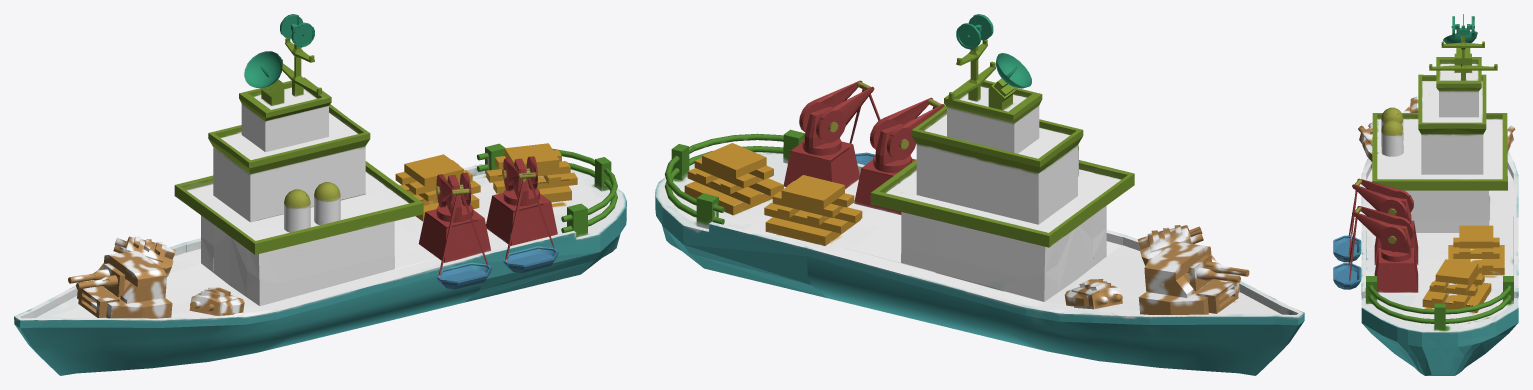
File: Cruiser.FBX
The picture shows the model from 3 angles, left to right: view 1: azimuth 30°, elevation 25°; view 2: azimuth 150°, elevation 25°; view 3: azimuth 270°, elevation 25°; orthographic projection. The views are drawn at different scales.
Visible parts, largest first — view 1: Object001; view 2: Object001; view 3: Object001.
Boxes of the visible parts, x1,y1,x2,y2 form: Object001: [14, 14, 626, 375]; Object001: [655, 14, 1304, 375]; Object001: [1333, 14, 1518, 375].
Size of the model in its own units: 138 by 63.97 by 44.54.
1 material, 1 textured.
